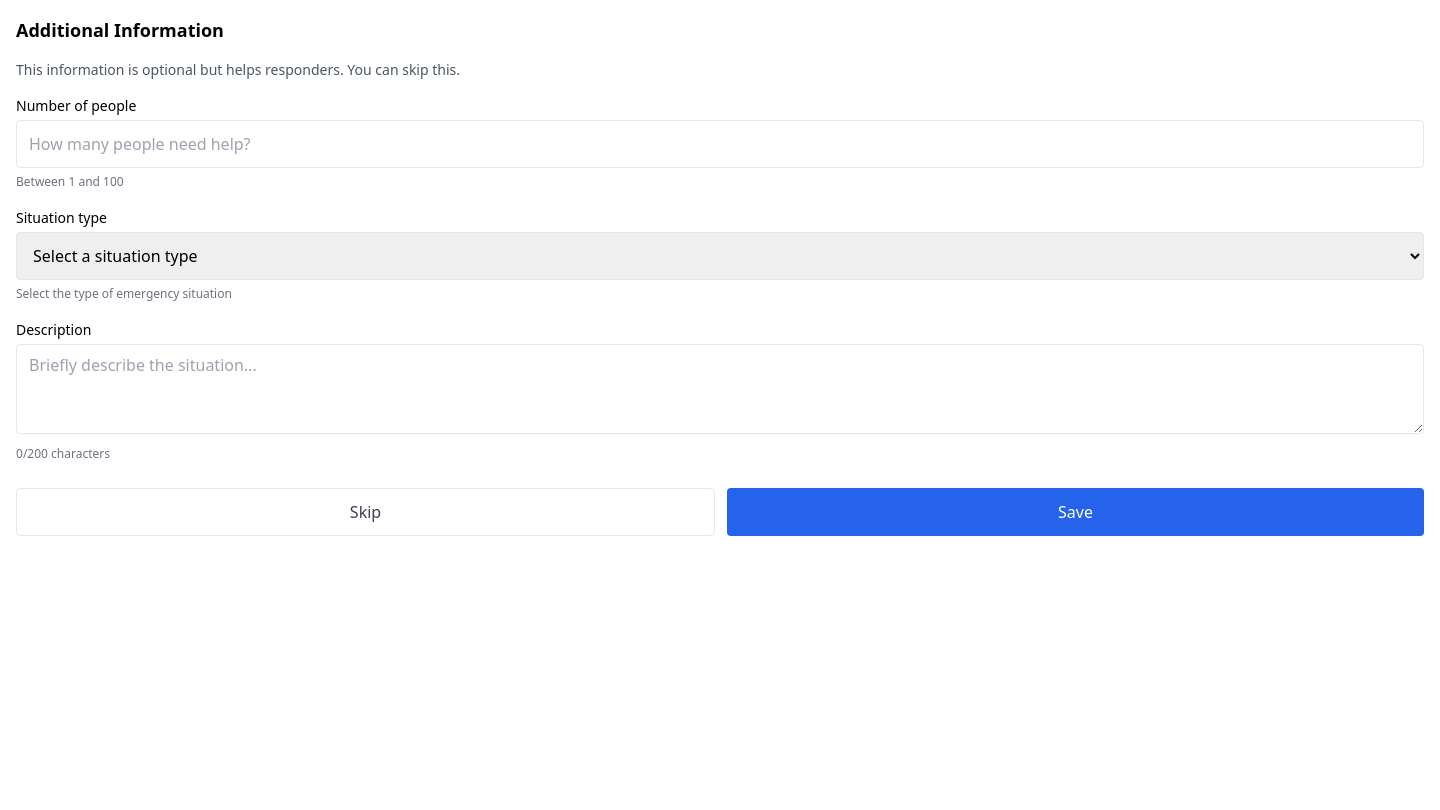
Test: AdditionalInfoForm › Form Submission › displays error message when sosRepository.update fails
The image size is (1440, 810).
Click the button "Save".
click(1076, 512)  # box [727,488,1424,536]
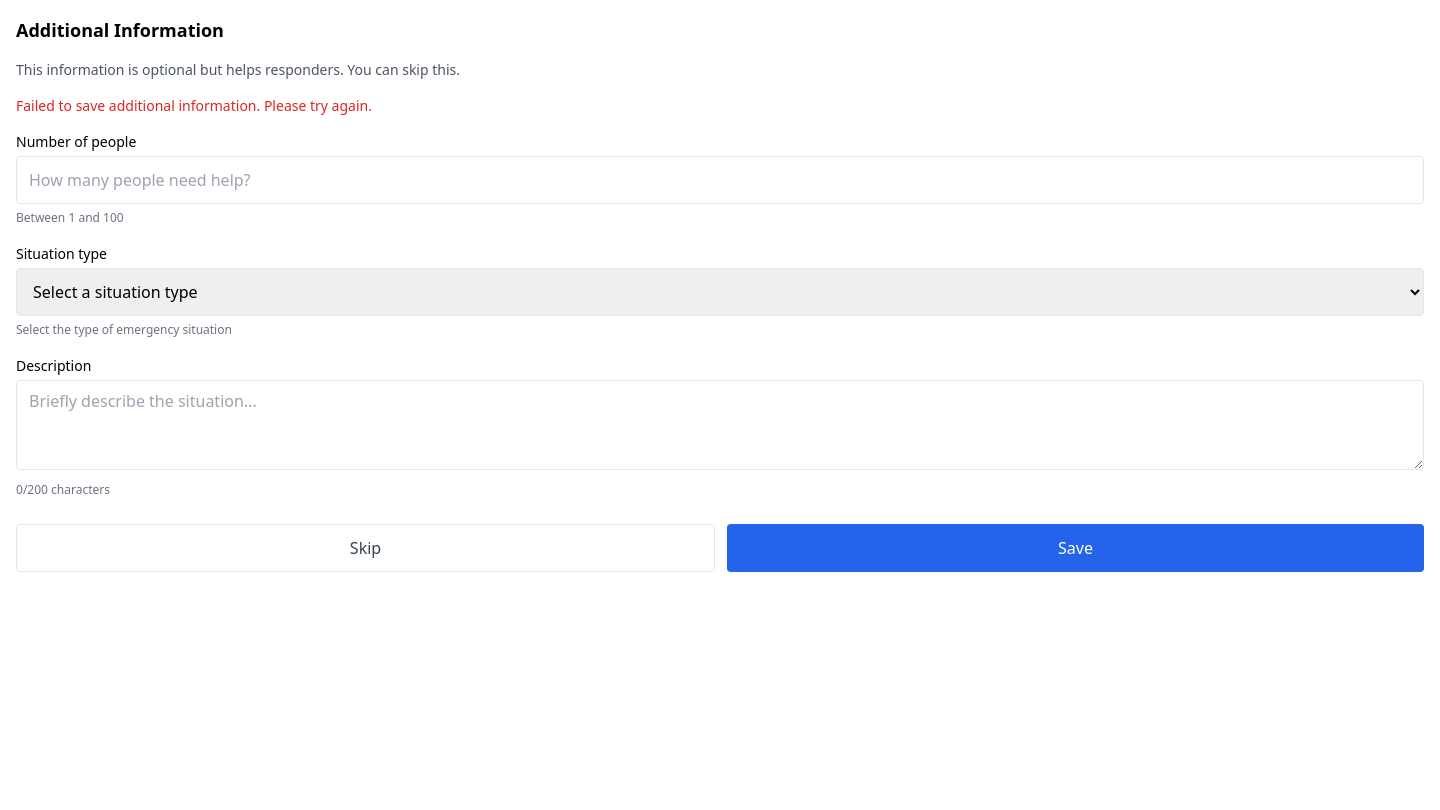
expect the message shows "Failed to save additional information": met, box [16,96,372,115]
